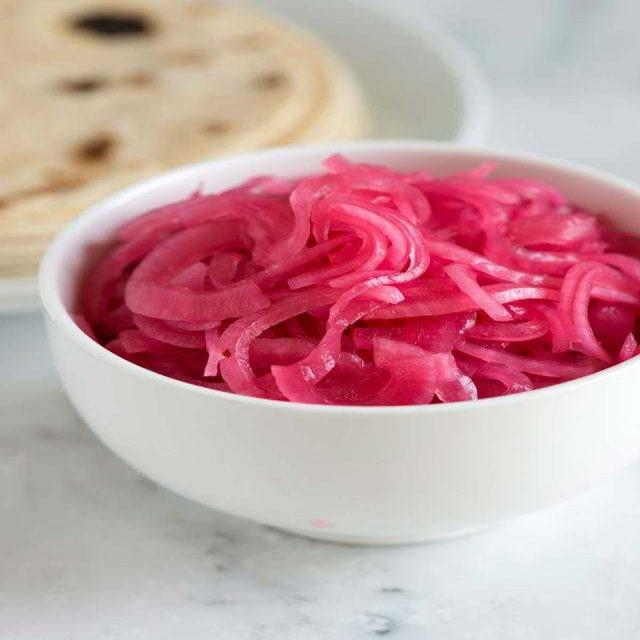onion: (81, 149, 640, 406)
